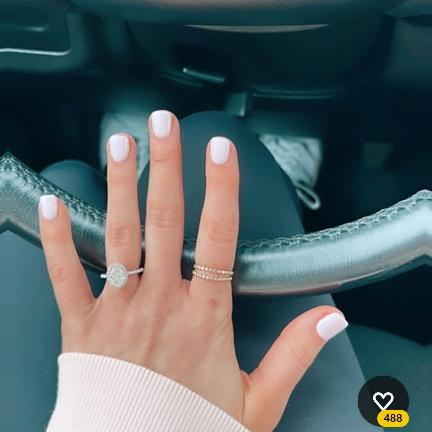Nail: (315, 312, 348, 341), (151, 110, 171, 138), (109, 135, 129, 163), (210, 137, 229, 165), (39, 195, 56, 220)
